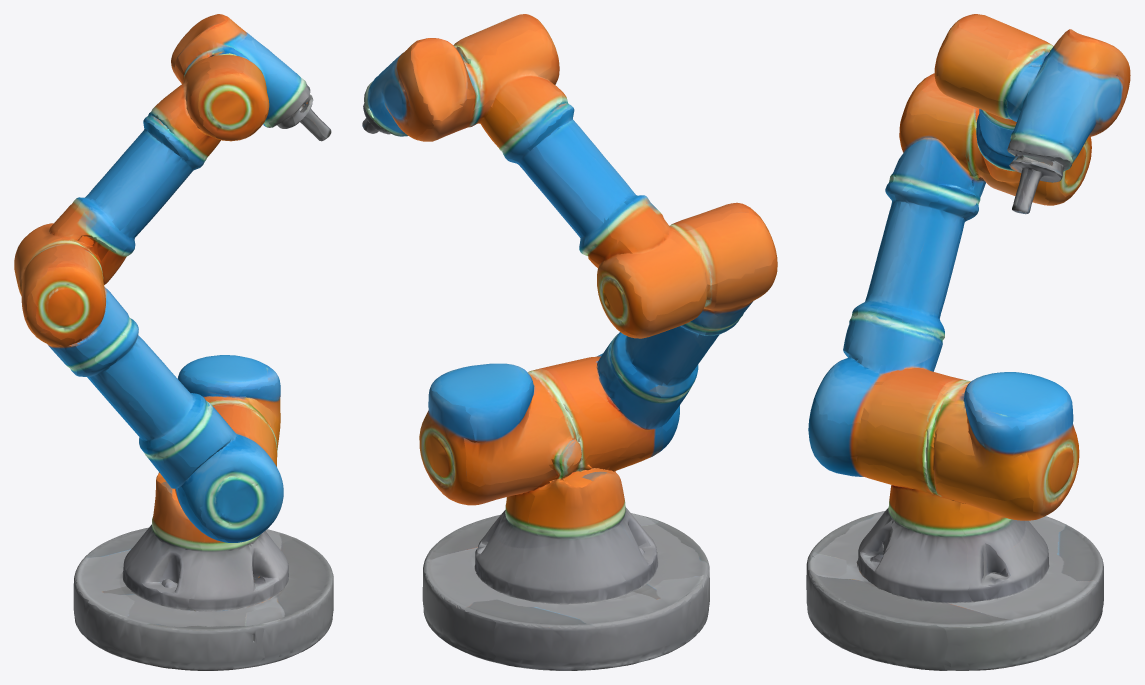
The model's file is robotarm3.glb.
3 renders of one model, left to right at view 1: azimuth 30°, elevation 25°; view 2: azimuth 150°, elevation 25°; view 3: azimuth 270°, elevation 25°, orthographic. The views are drawn at different scales.
Visible parts, largest first — view 1: geometry_0; view 2: geometry_0; view 3: geometry_0.
Boxes of the visible parts, x1=… form: geometry_0: x1=14, y1=14, x2=333, y2=670; geometry_0: x1=362, y1=14, x2=777, y2=670; geometry_0: x1=806, y1=14, x2=1130, y2=670.
Bounding box in the file's own units: 0.2954 × 0.45 × 0.2152.
Materials: 1 (1 with a texture image).
